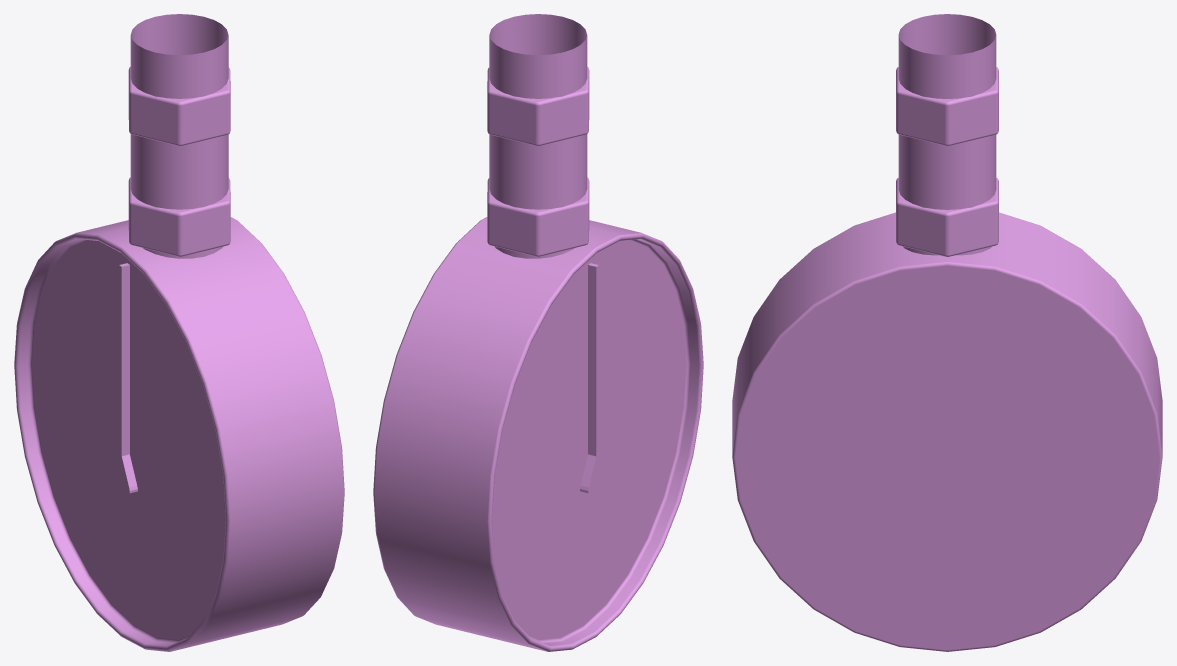
Rendered from Thermostat-Top.fbx.
3 views of the same model, side by side, from view 1: azimuth 30°, elevation 25°; view 2: azimuth 150°, elevation 25°; view 3: azimuth 270°, elevation 25° (orthographic).
Parts seen in each view (by area): view 1: Thermostat-Top, Thermostat-Side-Pointer; view 2: Thermostat-Top, Thermostat-Side-Pointer; view 3: Thermostat-Top.
Boxes of the visible parts, left/top/right/bottom form: Thermostat-Top: left=14, top=14, right=344, bottom=651; Thermostat-Side-Pointer: left=111, top=263, right=137, bottom=493; Thermostat-Top: left=373, top=14, right=703, bottom=651; Thermostat-Side-Pointer: left=580, top=263, right=606, bottom=493; Thermostat-Top: left=732, top=14, right=1162, bottom=651.
Size of the model in its own units: 4.2 by 20.03 by 13.25.
